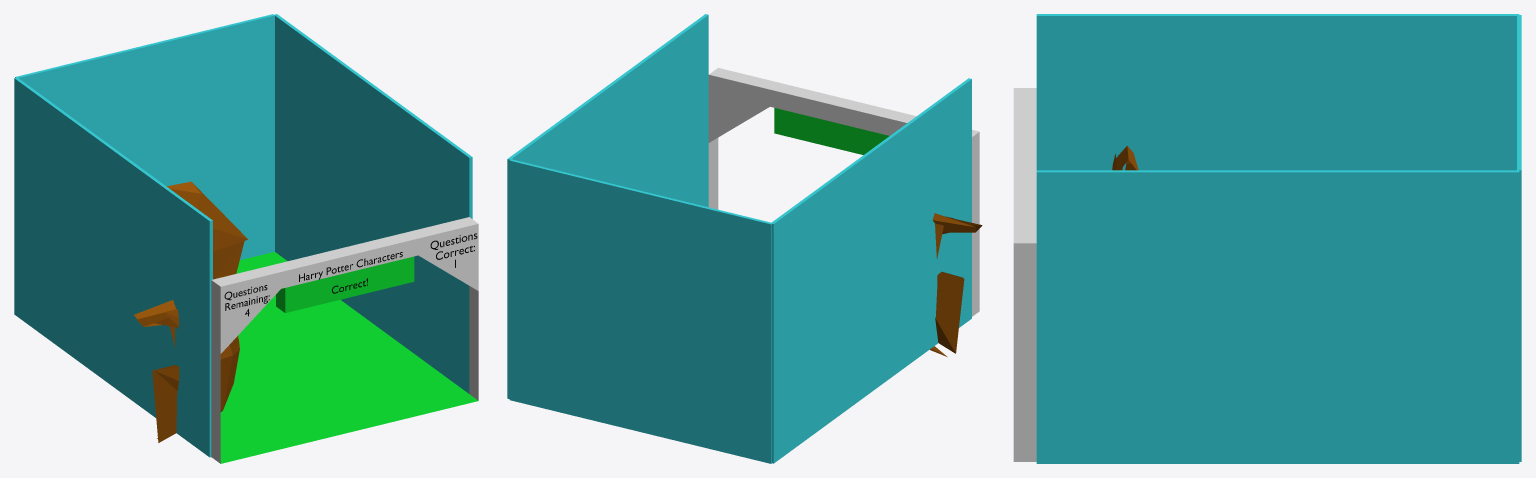
Rendered from arch_with_correct.fbx.
3 renders of one model, left to right at view 1: azimuth 30°, elevation 25°; view 2: azimuth 150°, elevation 25°; view 3: azimuth 270°, elevation 25°, orthographic. The views are drawn at different scales.
Visible parts, largest first — view 1: Left, Right, Background, Floor, Title_Pane, Triangle_Left, Question Pane, Obstacle_left, Triangle_Right, Obstacle_center, Wall_Left, Wall_Right; view 2: Background, Left, Right, Title_Pane, Triangle_Right, Question Pane, Obstacle_left, Wall_Left, Wall_Right, Triangle_Left; view 3: Right, Left, Title_Pane, Wall_Right, Triangle_Right, Background, Triangle_Left.
Part boxes in pixels (bbox=[...]): Left: bbox=[14, 77, 212, 457]; Right: bbox=[274, 14, 472, 393]; Background: bbox=[15, 14, 274, 259]; Floor: bbox=[220, 252, 477, 463]; Title_Pane: bbox=[211, 217, 478, 302]; Triangle_Left: bbox=[211, 260, 300, 353]; Question Pane: bbox=[276, 256, 414, 312]; Obstacle_left: bbox=[134, 300, 239, 442]; Triangle_Right: bbox=[390, 217, 478, 290]; Obstacle_center: bbox=[167, 181, 247, 279]; Wall_Left: bbox=[211, 347, 220, 463]; Wall_Right: bbox=[469, 286, 478, 400]; Background: bbox=[509, 159, 772, 463]; Left: bbox=[771, 78, 971, 463]; Right: bbox=[507, 14, 708, 398]; Title_Pane: bbox=[708, 68, 979, 153]; Triangle_Right: bbox=[708, 68, 798, 142]; Question Pane: bbox=[774, 108, 889, 154]; Obstacle_left: bbox=[929, 213, 982, 356]; Wall_Left: bbox=[972, 200, 979, 316]; Wall_Right: bbox=[708, 138, 718, 209]; Triangle_Left: bbox=[889, 111, 979, 205]; Right: bbox=[1036, 170, 1519, 463]; Left: bbox=[1036, 14, 1519, 170]; Title_Pane: bbox=[1013, 88, 1036, 263]; Wall_Right: bbox=[1013, 326, 1036, 461]; Triangle_Right: bbox=[1013, 194, 1036, 326]; Background: bbox=[1517, 15, 1521, 461]; Triangle_Left: bbox=[1013, 88, 1036, 136].
Size of the model in its own units: 1890 by 1518 by 2220.
